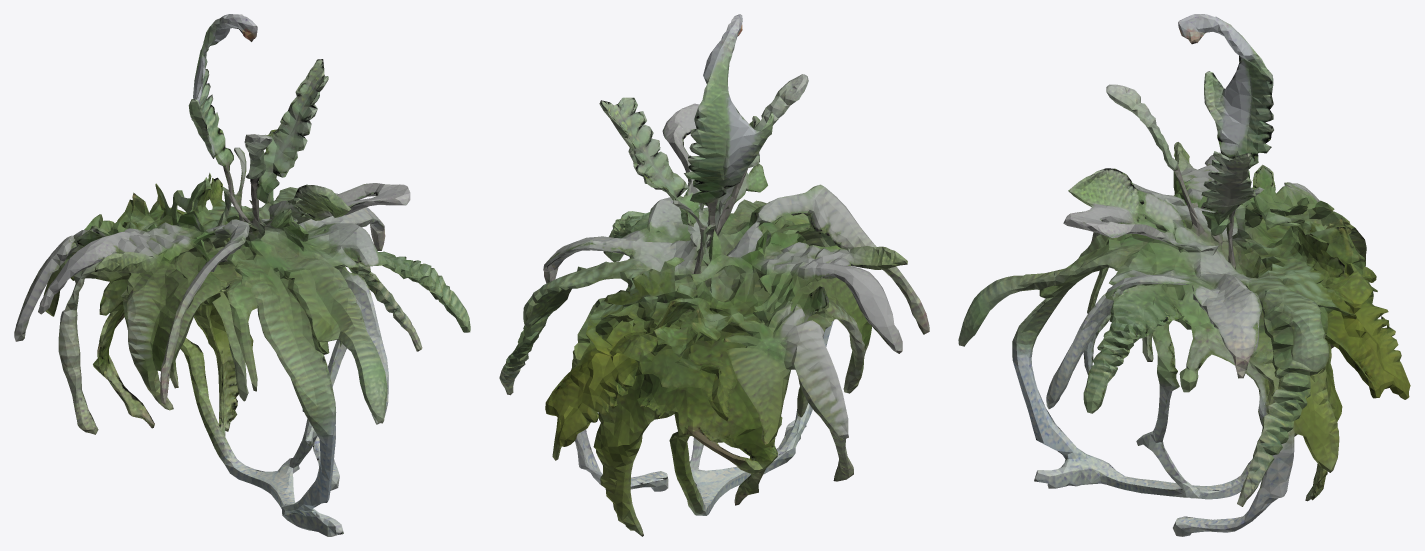
3 views of the same model, side by side, from view 1: azimuth 30°, elevation 25°; view 2: azimuth 150°, elevation 25°; view 3: azimuth 270°, elevation 25° (orthographic). The views are drawn at different scales.
Visible parts, largest first — view 1: world; view 2: world; view 3: world.
Part boxes in pixels (bbox=[...]): world: bbox=[14, 14, 470, 536]; world: bbox=[499, 14, 929, 536]; world: bbox=[958, 14, 1410, 536].
Bounding box in the file's own units: 0.7703 × 0.9292 × 0.7907.
Materials: 1 (1 with a texture image).
